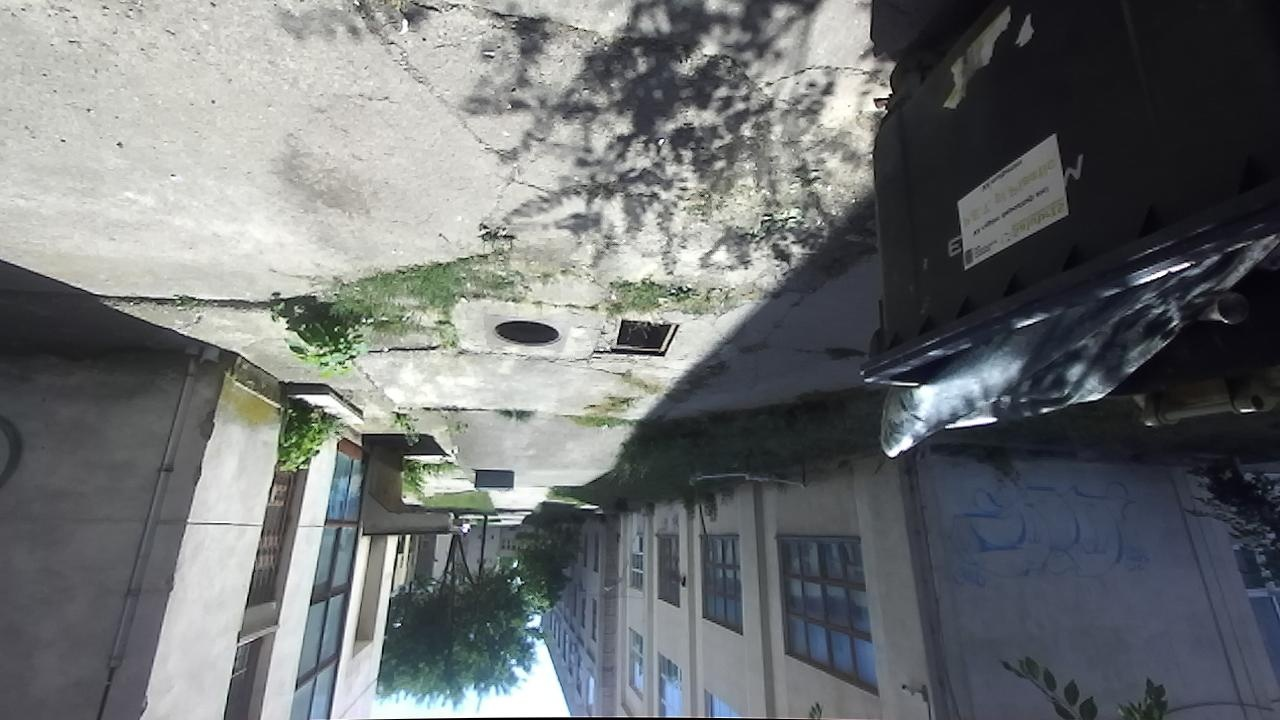drain: (600, 321, 684, 353), (489, 319, 575, 348)
